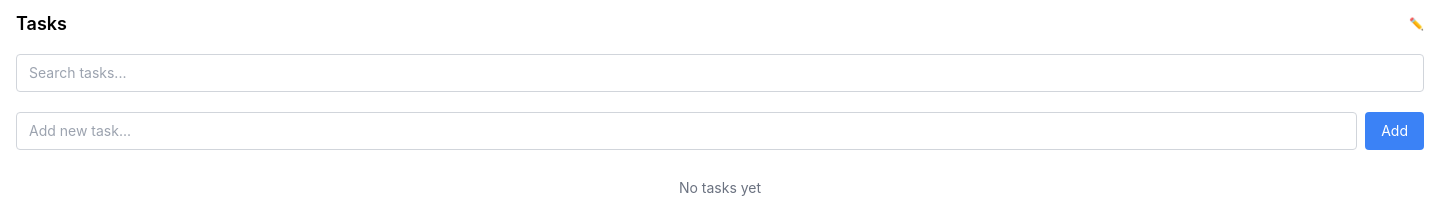
Test: TasksWidget › adds a new task
Type "Test task" into the field with placeholder "Add new task..." at (687, 131), box [16,112,1357,150]
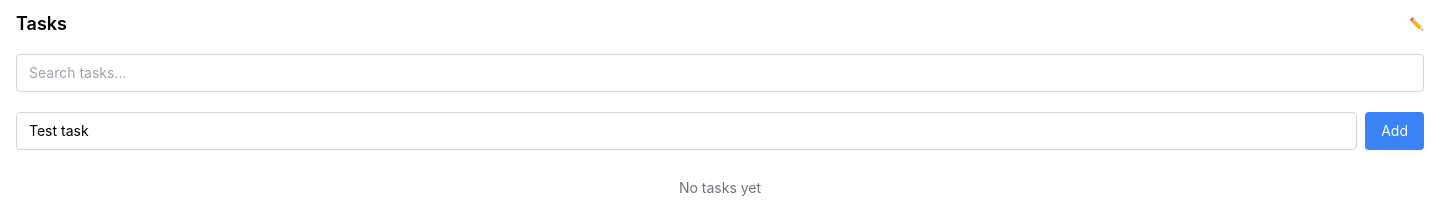
Click the button "Add" at (1395, 131), box [1365,112,1424,150]
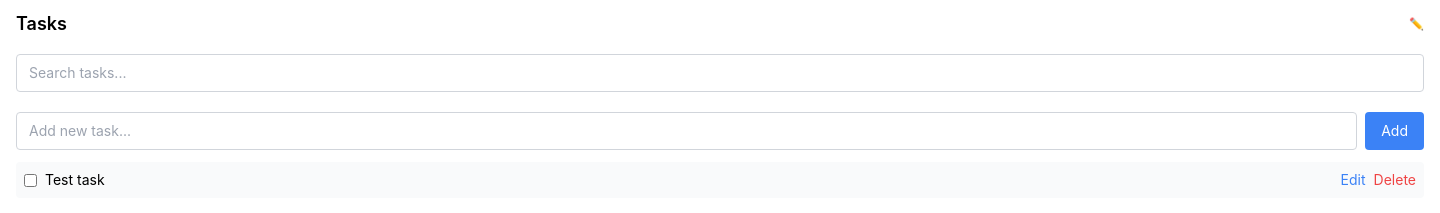
Expected: the text "Test task" is shown, [45,171,105,188]
